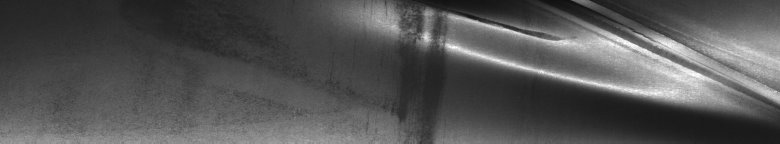ke: (400, 4, 776, 116)
